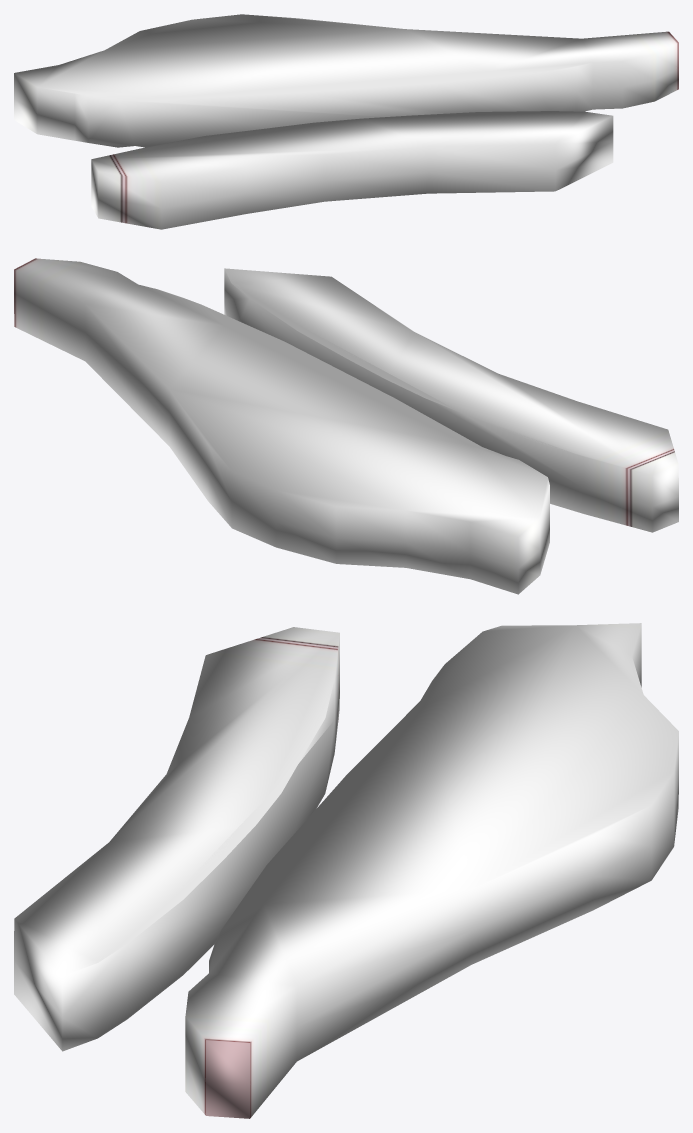
The model's file is asset.glb.
3 renders of one model, top to bottom at view 1: azimuth 30°, elevation 25°; view 2: azimuth 150°, elevation 25°; view 3: azimuth 270°, elevation 25°, orthographic. The views are drawn at different scales.
Visible parts, largest first — view 1: Plane; view 2: Plane; view 3: Plane.
Boxes of the visible parts, <box> form: Plane: <box>14,14,678,229</box>; Plane: <box>14,258,678,594</box>; Plane: <box>14,623,678,1118</box>.
Size of the model in its own units: 0.2835 by 0.0329 by 0.1816.
Materials: 1 (1 with a texture image).
